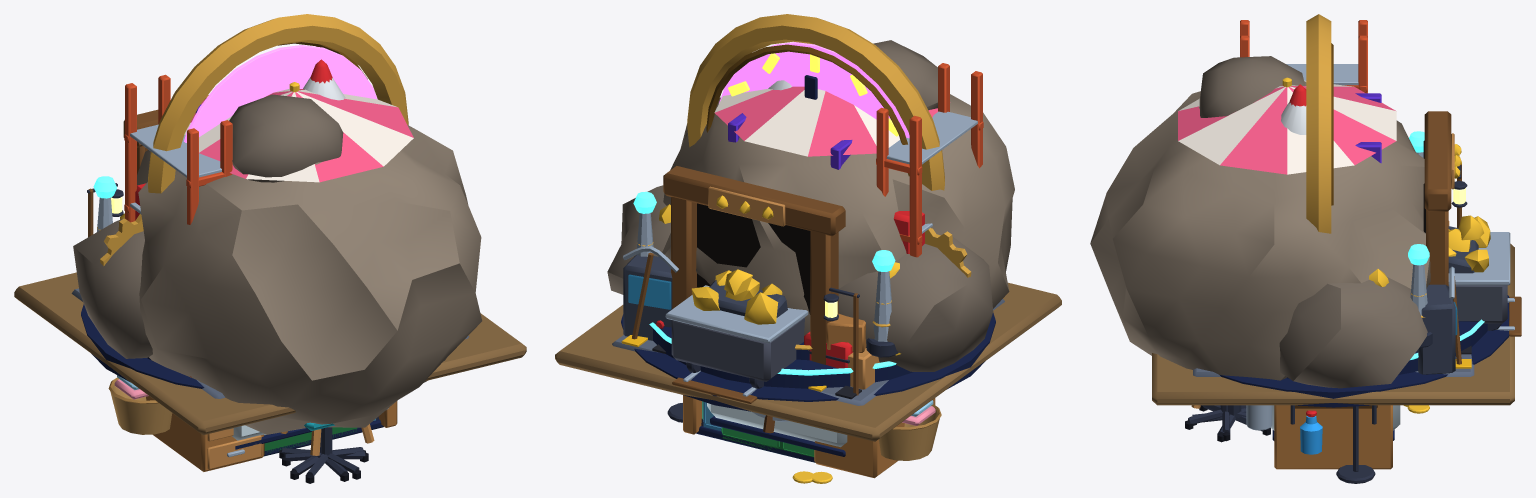
File: Stations.fbx
3 views of the same model, side by side, from view 1: azimuth 30°, elevation 25°; view 2: azimuth 150°, elevation 25°; view 3: azimuth 270°, elevation 25° (orthographic). The views are drawn at different scales.
Visible parts, largest first — view 1: GoldMine__Hill, GoldMine__Body2, GoldMine__Body1, TimeMachine__ClockRing, TimeMachine__Portal, RocketWorkshop__Body6, IceCreamCart__Body11, IceCreamCart__Body10, ComputerDesk__Body1, TimeMachine__Platform, LaundryMachine__Basket, RocketWorkshop__Body5 (+5 smaller); view 2: GoldMine__Hill, GoldMine__Body2, GoldMine__Body1, TimeMachine__ClockRing, TimeMachine__Platform, GoldMine__MineCart, RocketWorkshop__Body6, IceCreamCart__Body10, TimeMachine__Portal, GoldMine__Tunnel, GoldMine__Beam, IceCreamCart__Body11 (+30 smaller); view 3: GoldMine__Hill, GoldMine__Body2, GoldMine__Body1, ComputerDesk__Body1, IceCreamCart__Body10, TimeMachine__ClockRing, IceCreamCart__Body11, TimeMachine__Platform, RobotFactory__ControlPanel, GoldMine__Beam, GoldMine__MineCart, GoldMine__Body5 (+15 smaller).
Part boxes in pixels (box(x1,y1,x2,y2)): GoldMine__Hill: box(137, 125, 482, 434); GoldMine__Body2: box(73, 94, 343, 358); GoldMine__Body1: box(14, 272, 526, 435); TimeMachine__ClockRing: box(148, 14, 408, 193); TimeMachine__Portal: box(184, 45, 377, 142); RocketWorkshop__Body6: box(124, 74, 232, 377); IceCreamCart__Body11: box(184, 89, 413, 182); IceCreamCart__Body10: box(190, 89, 413, 182); ComputerDesk__Body1: box(146, 396, 397, 471); TimeMachine__Platform: box(81, 304, 204, 388); LaundryMachine__Basket: box(110, 382, 172, 434); RocketWorkshop__Body5: box(130, 124, 221, 214); GoldMine__Hill: box(662, 94, 1014, 335); GoldMine__Body2: box(607, 40, 993, 371); GoldMine__Body1: box(555, 282, 1061, 441); TimeMachine__ClockRing: box(687, 14, 944, 190); TimeMachine__Platform: box(621, 312, 995, 411); GoldMine__MineCart: box(671, 317, 804, 381); RocketWorkshop__Body6: box(876, 63, 983, 257); IceCreamCart__Body10: box(715, 86, 950, 156); TimeMachine__Portal: box(719, 42, 909, 138); GoldMine__Tunnel: box(697, 203, 810, 314); GoldMine__Beam: box(663, 166, 845, 236); IceCreamCart__Body11: box(714, 89, 899, 156); GoldMine__Hill: box(1090, 80, 1430, 380); GoldMine__Body2: box(1199, 56, 1427, 388); GoldMine__Body1: box(1152, 243, 1514, 405); ComputerDesk__Body1: box(1274, 405, 1392, 469); IceCreamCart__Body10: box(1178, 85, 1396, 174); TimeMachine__ClockRing: box(1306, 14, 1331, 233); IceCreamCart__Body11: box(1178, 80, 1396, 174); TimeMachine__Platform: box(1219, 295, 1509, 407); RobotFactory__ControlPanel: box(1417, 284, 1455, 374); GoldMine__Beam: box(1424, 111, 1451, 211); GoldMine__MineCart: box(1448, 285, 1507, 323); GoldMine__Body5: box(1448, 232, 1510, 299).
Size of the model in its own units: 10.92 by 11.94 by 11.65.
